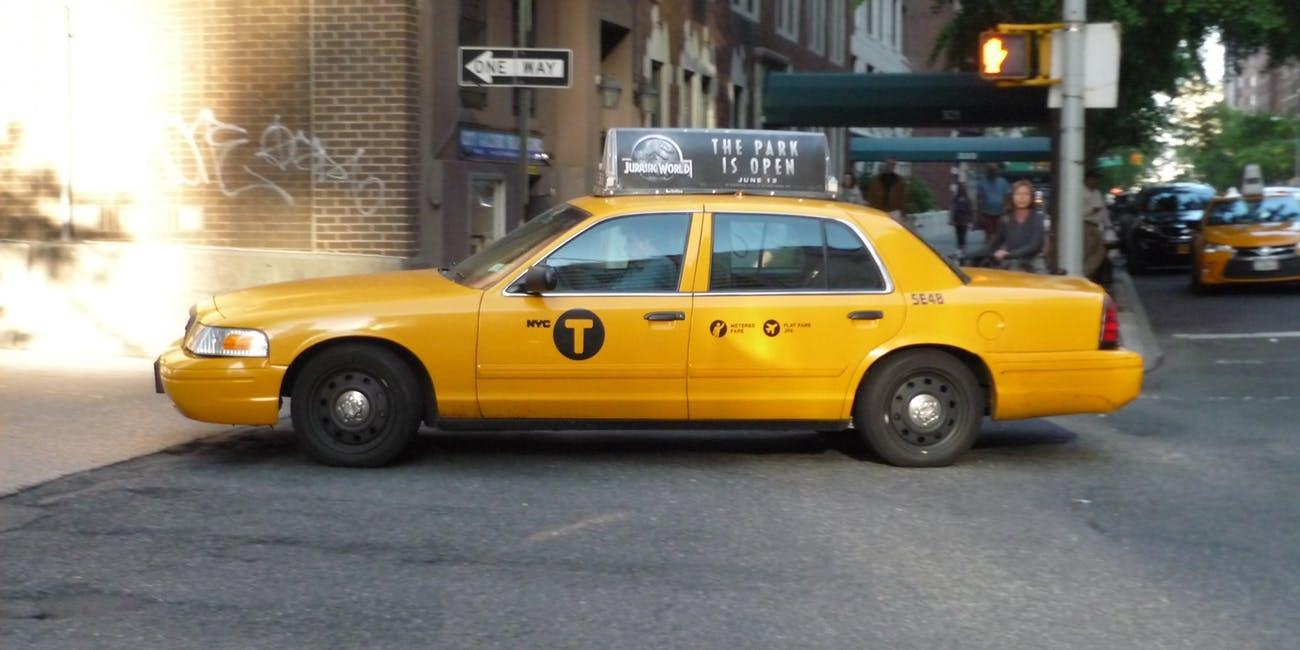taxi: (127, 157, 1157, 484)
